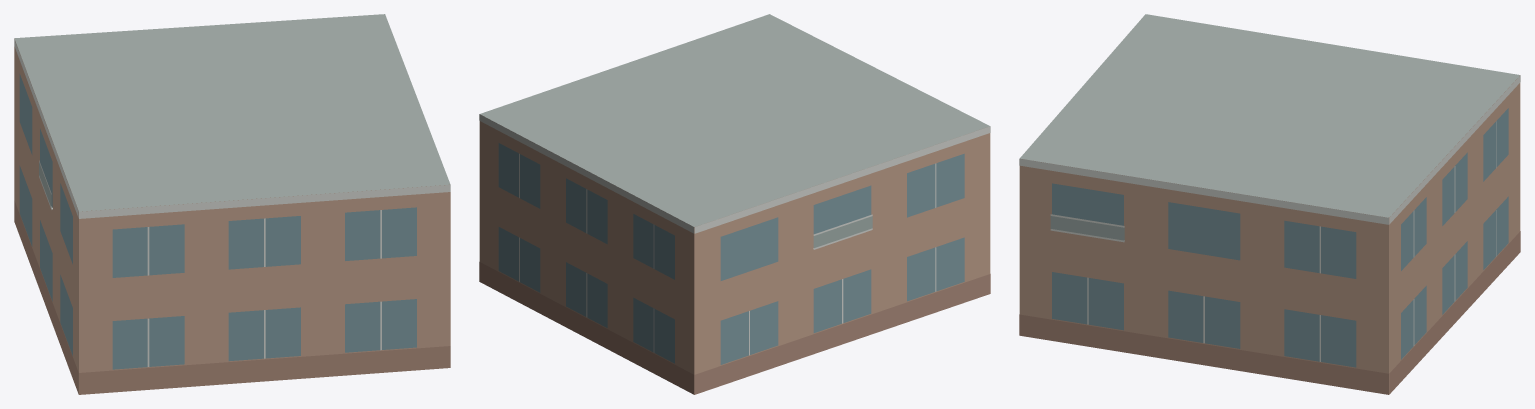
File: survey-upis-32552116.glb
3 renders of one model, left to right at view 1: azimuth 30°, elevation 25°; view 2: azimuth 150°, elevation 25°; view 3: azimuth 270°, elevation 25°, orthographic. The views are drawn at different scales.
Visible parts, largest first — view 1: survey-upis-32552116.tmp; view 2: survey-upis-32552116.tmp; view 3: survey-upis-32552116.tmp.
Part boxes in pixels (x1,y1,x2,y2): survey-upis-32552116.tmp: (14,14,450,394); survey-upis-32552116.tmp: (479,14,990,394); survey-upis-32552116.tmp: (1019,14,1520,394).
Bounding box in the file's own units: 15.07 × 6.1 × 15.65.
